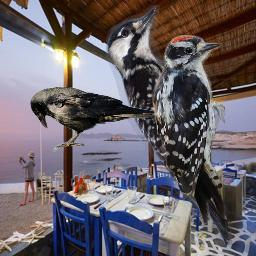Crow: (30, 86, 161, 152)
Woodpecker: (106, 5, 232, 245), (150, 35, 225, 224)
